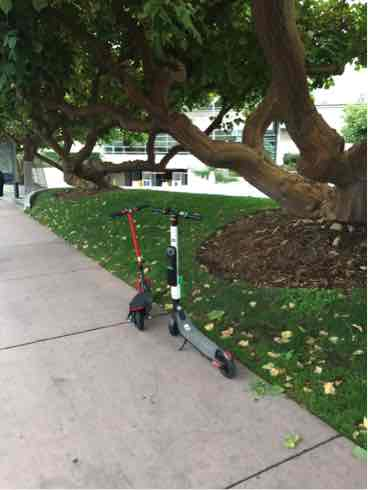scooter: (130, 199, 242, 378)
